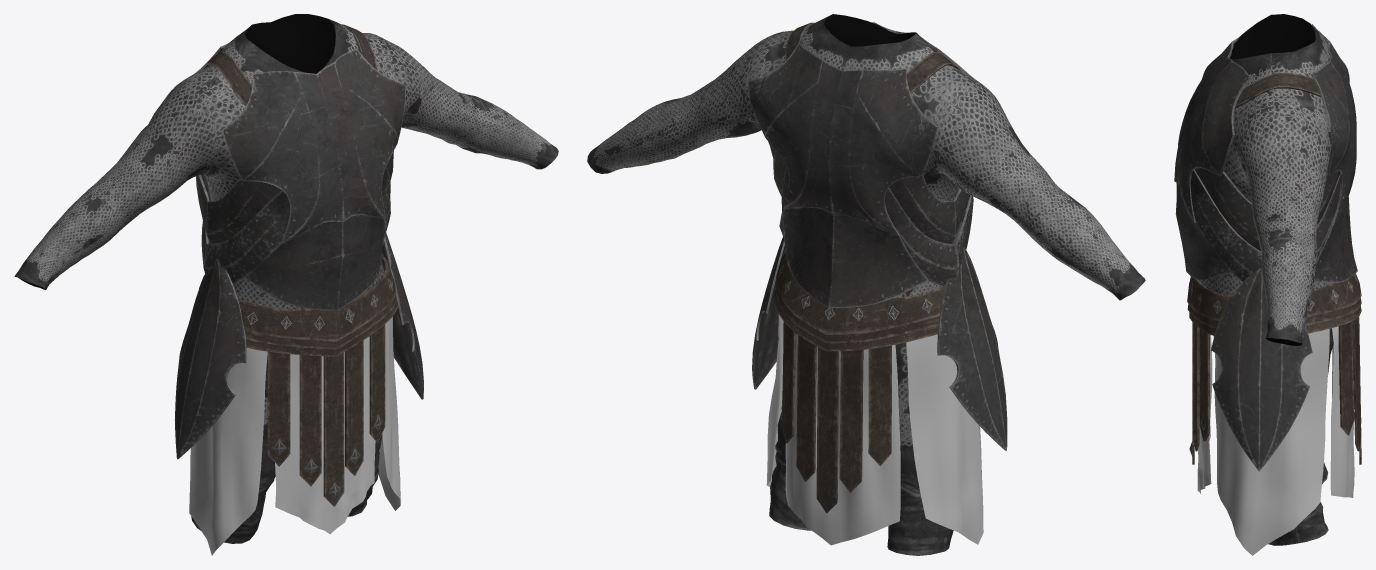
The model's file is sk_uruk_mordor_chainmail_heavy_c1.fbx.
The picture shows the model from 3 angles, left to right: view 1: azimuth 30°, elevation 25°; view 2: azimuth 150°, elevation 25°; view 3: azimuth 270°, elevation 25°; orthographic projection. The views are drawn at different scales.
Parts seen in each view (by area): view 1: sk_uruk_mordor_chainmail_heavy_c1.4, sk_uruk_mordor_chainmail_heavy_c1.0, sk_uruk_mordor_chainmail_heavy_c1.1, sk_uruk_mordor_chainmail_heavy_c1.2, sk_uruk_mordor_chainmail_heavy_c1.3; view 2: sk_uruk_mordor_chainmail_heavy_c1.0, sk_uruk_mordor_chainmail_heavy_c1.4, sk_uruk_mordor_chainmail_heavy_c1.1, sk_uruk_mordor_chainmail_heavy_c1.2, sk_uruk_mordor_chainmail_heavy_c1.3; view 3: sk_uruk_mordor_chainmail_heavy_c1.0, sk_uruk_mordor_chainmail_heavy_c1.4, sk_uruk_mordor_chainmail_heavy_c1.2, sk_uruk_mordor_chainmail_heavy_c1.3, sk_uruk_mordor_chainmail_heavy_c1.1.
Part boxes in pixels (left/top/right/bottom): sk_uruk_mordor_chainmail_heavy_c1.4: left=171, top=43, right=405, bottom=310; sk_uruk_mordor_chainmail_heavy_c1.0: left=14, top=14, right=558, bottom=543; sk_uruk_mordor_chainmail_heavy_c1.1: left=199, top=24, right=398, bottom=506; sk_uruk_mordor_chainmail_heavy_c1.2: left=189, top=317, right=400, bottom=555; sk_uruk_mordor_chainmail_heavy_c1.3: left=175, top=232, right=423, bottom=459; sk_uruk_mordor_chainmail_heavy_c1.0: left=587, top=14, right=1145, bottom=555; sk_uruk_mordor_chainmail_heavy_c1.4: left=748, top=22, right=973, bottom=307; sk_uruk_mordor_chainmail_heavy_c1.1: left=773, top=22, right=959, bottom=513; sk_uruk_mordor_chainmail_heavy_c1.2: left=766, top=314, right=983, bottom=545; sk_uruk_mordor_chainmail_heavy_c1.3: left=752, top=237, right=1007, bottom=450; sk_uruk_mordor_chainmail_heavy_c1.0: left=1199, top=14, right=1333, bottom=545; sk_uruk_mordor_chainmail_heavy_c1.4: left=1174, top=24, right=1357, bottom=283; sk_uruk_mordor_chainmail_heavy_c1.2: left=1197, top=326, right=1354, bottom=555; sk_uruk_mordor_chainmail_heavy_c1.3: left=1211, top=268, right=1312, bottom=471; sk_uruk_mordor_chainmail_heavy_c1.1: left=1187, top=72, right=1361, bottom=464.
Bounding box in the file's own units: 1.37 × 0.4267 × 1.21.
